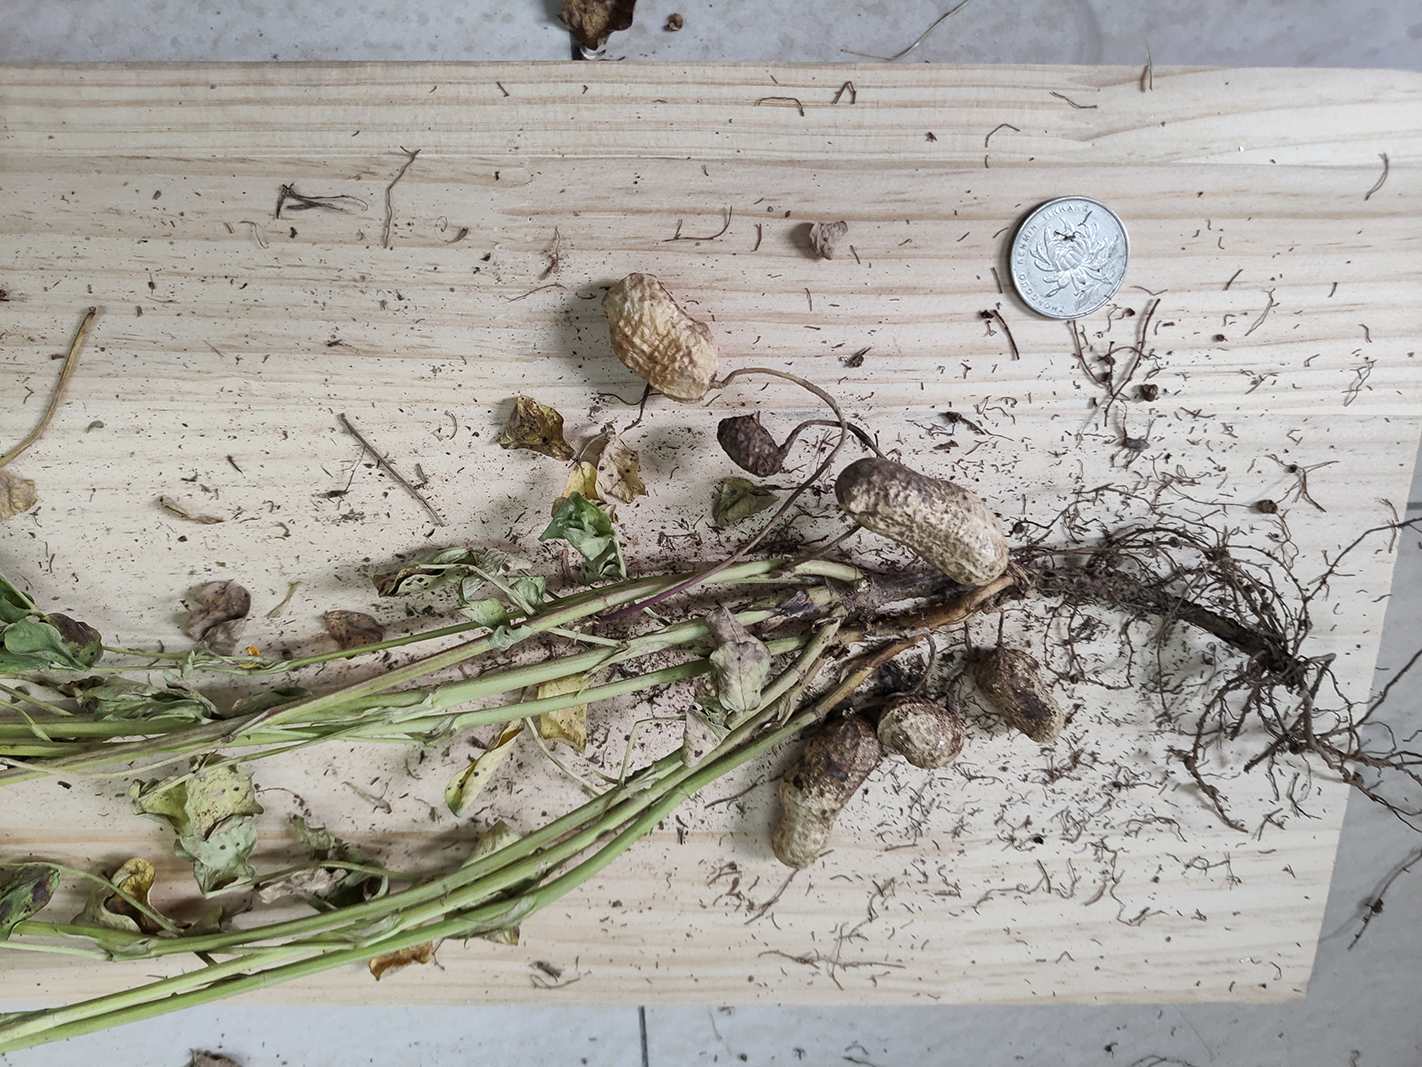h: (835, 458, 1007, 583), (772, 715, 880, 871), (605, 270, 721, 401), (883, 700, 961, 764)
l: (987, 651, 1062, 742), (719, 416, 781, 475)
